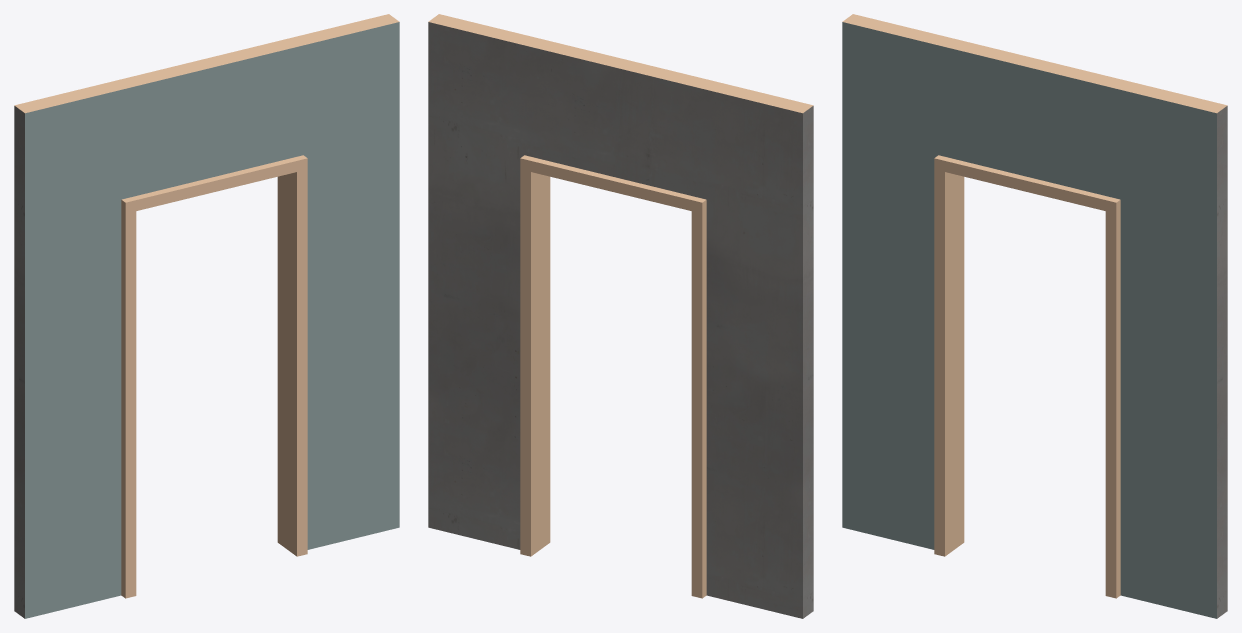
File: WallDoorway.fbx
3 renders of one model, left to right at view 1: azimuth 30°, elevation 25°; view 2: azimuth 150°, elevation 25°; view 3: azimuth 330°, elevation 25°, orthographic.
Parts seen in each view (by area): view 1: wallDoorway; view 2: wallDoorway; view 3: wallDoorway.
Boxes of the visible parts, x1=… form: wallDoorway: x1=14, y1=14, x2=399, y2=618; wallDoorway: x1=428, y1=14, x2=813, y2=618; wallDoorway: x1=842, y1=14, x2=1227, y2=618.
Size of the model in its own units: 250 by 322 by 22.28.
Materials: 3 (1 with a texture image).
